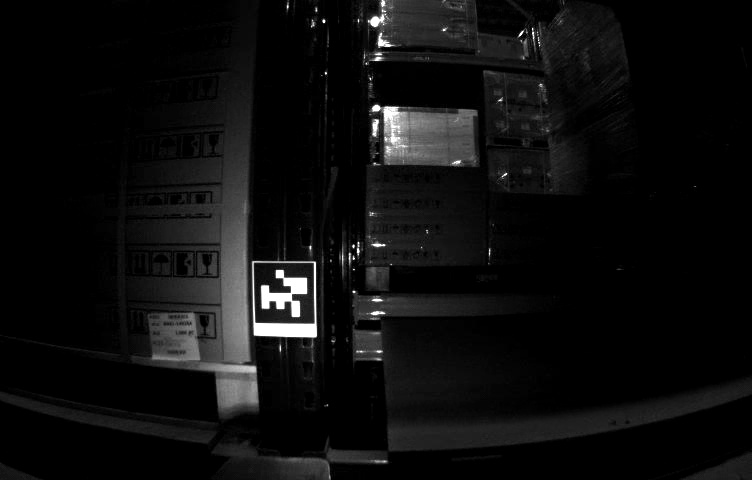True Barcode: (144, 308, 199, 361)
